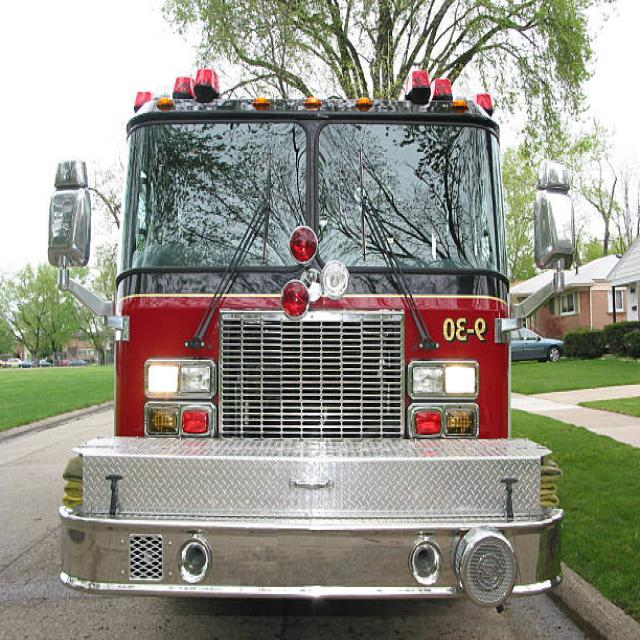emergency: (49, 70, 575, 606)
